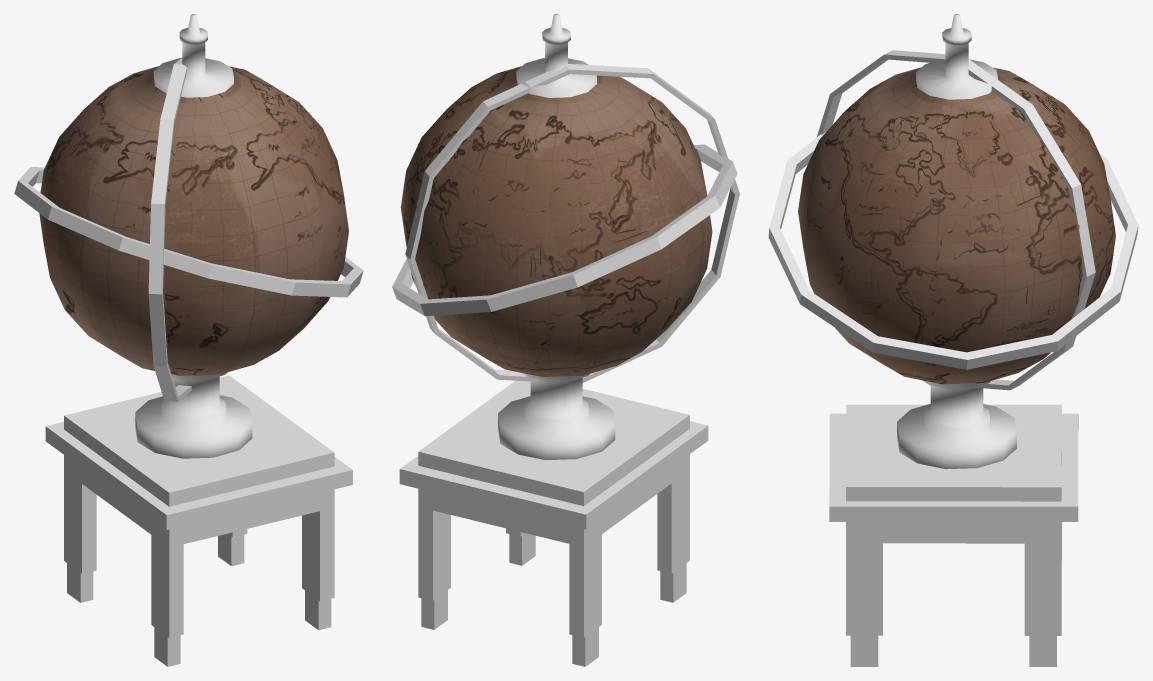
Rendered from dunya.fbx.
3 renders of one model, left to right at view 1: azimuth 30°, elevation 25°; view 2: azimuth 150°, elevation 25°; view 3: azimuth 270°, elevation 25°, orthographic. The views are drawn at different scales.
Visible parts, largest first — view 1: Sphere, Cube.138, Circle.007, Circle.008; view 2: Sphere, Cube.138, Circle.008, Circle.007; view 3: Sphere, Cube.138, Circle.007, Circle.008.
Boxes of the visible parts, left/top/right/bottom form: Sphere: left=39, top=14, right=348, bottom=458; Cube.138: left=45, top=375, right=352, bottom=666; Circle.007: left=14, top=167, right=363, bottom=297; Circle.008: left=148, top=57, right=191, bottom=401; Sphere: left=400, top=14, right=712, bottom=459; Cube.138: left=399, top=380, right=708, bottom=666; Circle.008: left=405, top=64, right=739, bottom=382; Circle.007: left=392, top=144, right=737, bottom=316; Sphere: left=798, top=14, right=1115, bottom=469; Cube.138: left=829, top=404, right=1078, bottom=666; Circle.007: left=768, top=132, right=1138, bottom=369; Circle.008: left=817, top=50, right=1095, bottom=390.
Bounding box in the file's own units: 139 × 266 × 147.
Materials: 2 (1 with a texture image).
